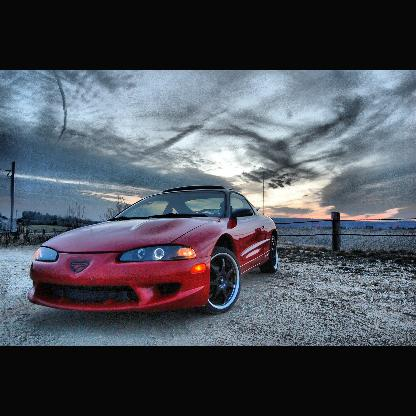Eagle Talon Hatchback 1998: (26, 188, 281, 315)
